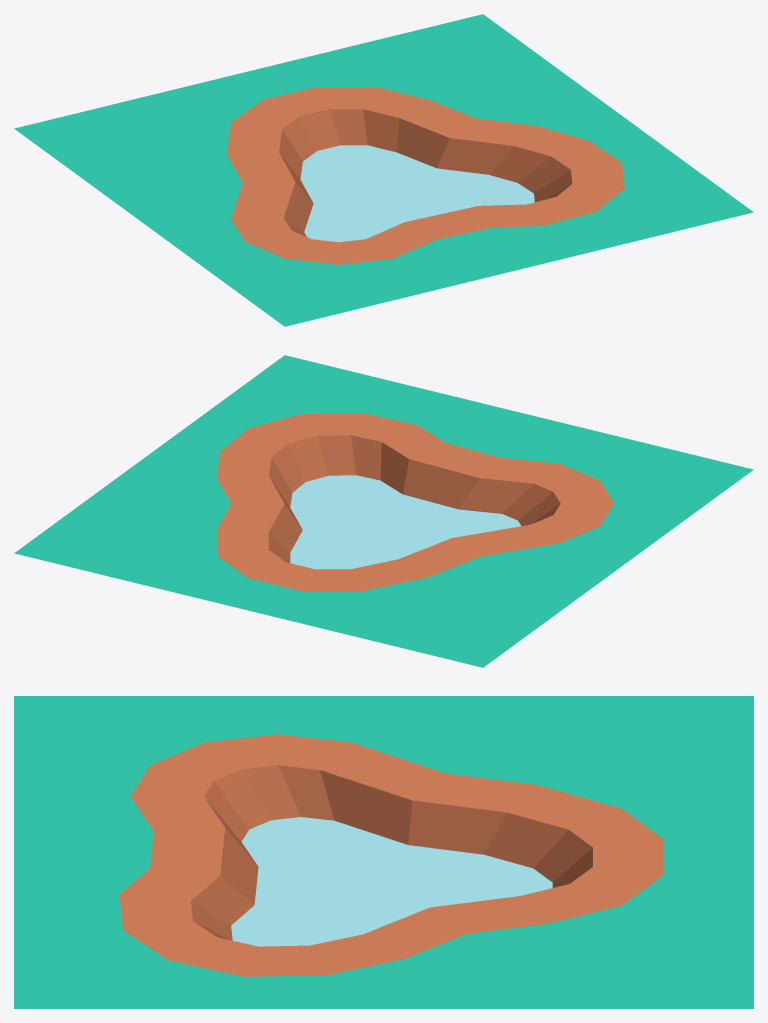
The model's file is ground_riverTile.fbx.
3 views of the same model, one above another, from view 1: azimuth 30°, elevation 25°; view 2: azimuth 150°, elevation 25°; view 3: azimuth 270°, elevation 25° (orthographic). The views are drawn at different scales.
Visible parts, largest first — view 1: ground_riverTile; view 2: ground_riverTile; view 3: ground_riverTile.
Part boxes in pixels (box(x1,y1,x2,y2)): ground_riverTile: box(14, 14, 753, 326); ground_riverTile: box(14, 355, 753, 667); ground_riverTile: box(14, 696, 753, 1008).
Bounding box in the file's own units: 10 × 0.5 × 10.
